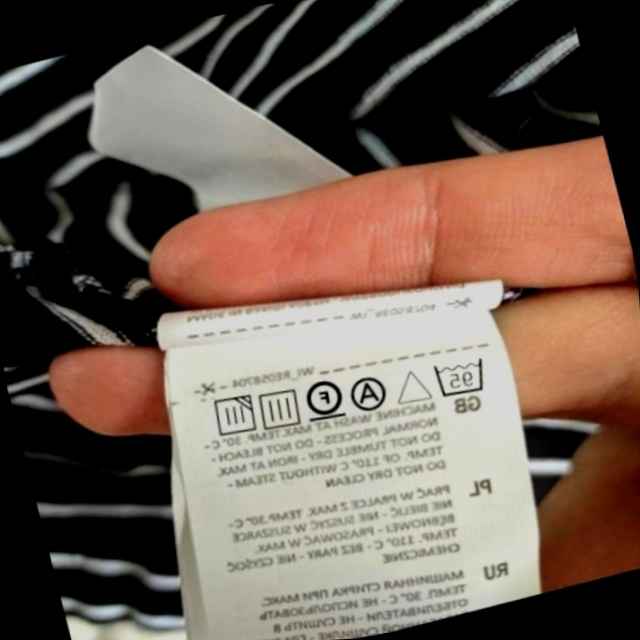95C: (426, 349, 493, 405)
bleach: (389, 359, 436, 411)
drip_dry: (251, 381, 307, 436)
drip_dry_in_shade: (203, 388, 261, 445)
dry_clean: (345, 369, 394, 417)
dry_clean_petrol_only: (298, 370, 350, 427)
